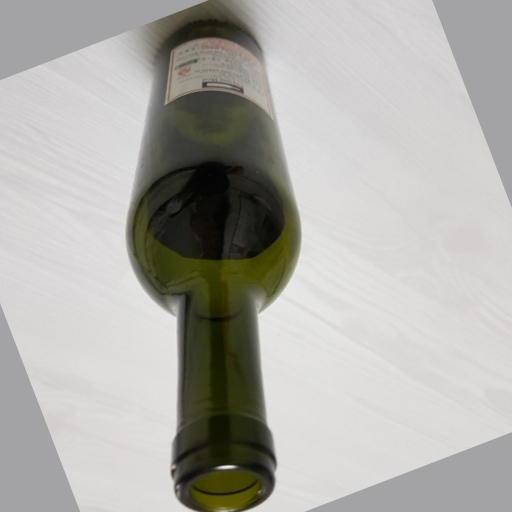Glass_2: (125, 19, 305, 512)
